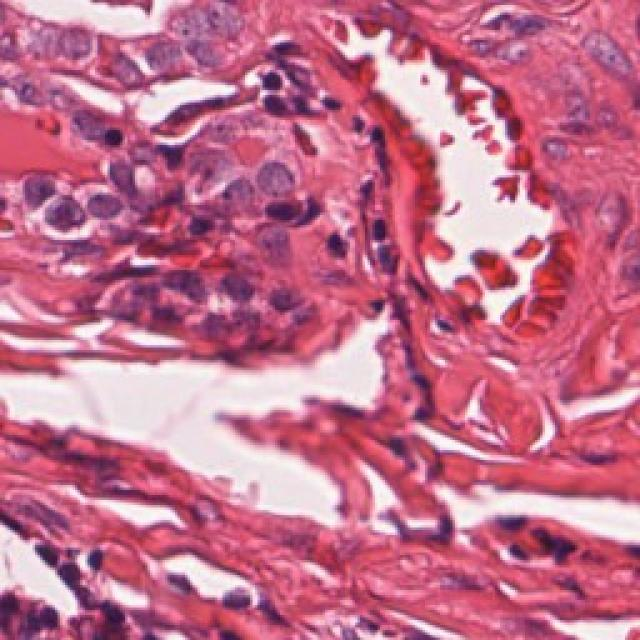abnormal: (184, 128, 239, 207), (149, 20, 191, 85), (37, 193, 90, 243), (33, 8, 71, 73), (252, 151, 300, 197), (208, 171, 251, 222), (83, 181, 125, 229), (60, 20, 96, 71), (191, 33, 214, 54)
